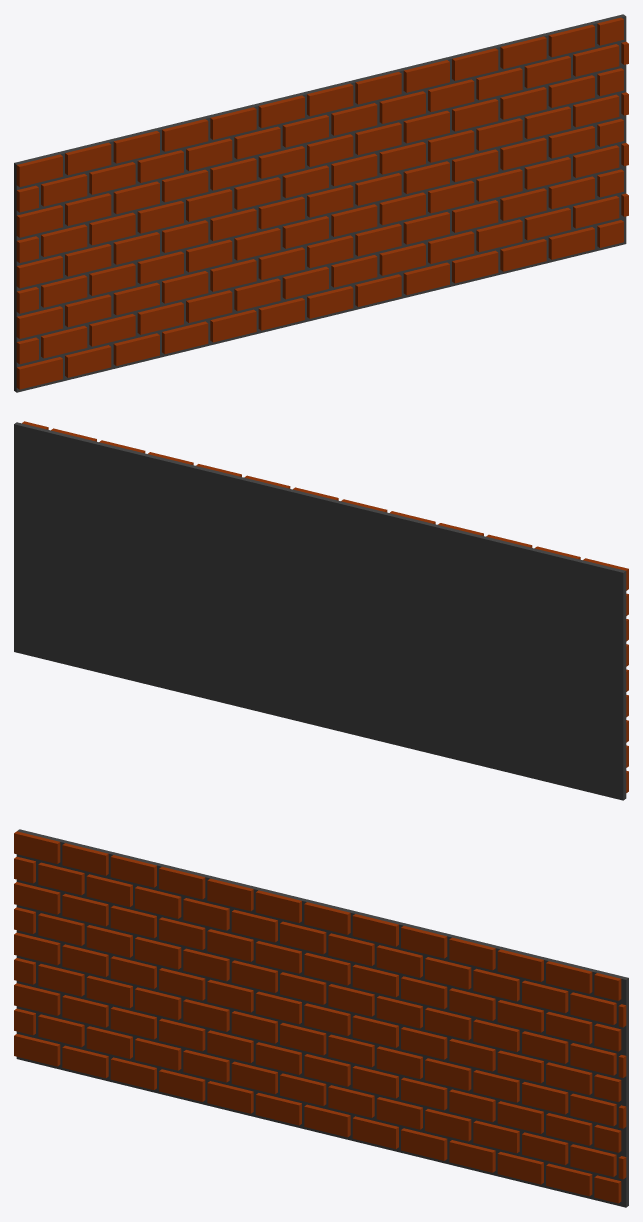
File: стена-7.obj
3 renders of one model, top to bottom at view 1: azimuth 30°, elevation 25°; view 2: azimuth 150°, elevation 25°; view 3: azimuth 330°, elevation 25°, orthographic.
Bounding box in the file's own units: 12.6 × 4.5 × 0.2.
